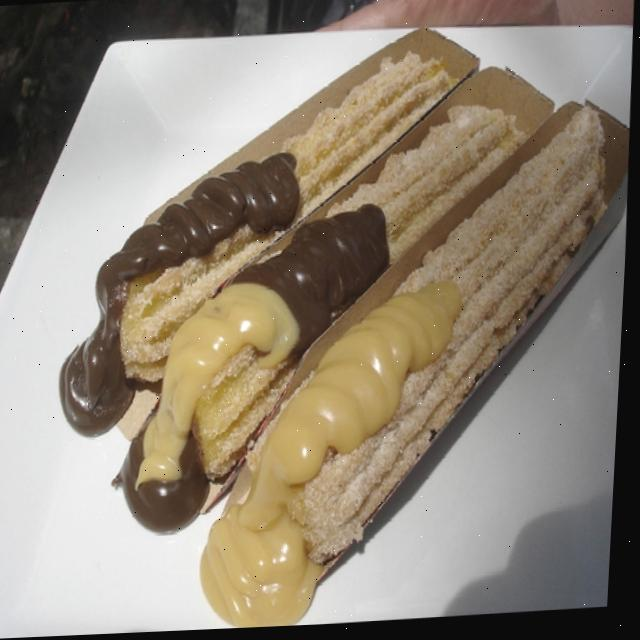炸货点心: (13, 22, 638, 632)
